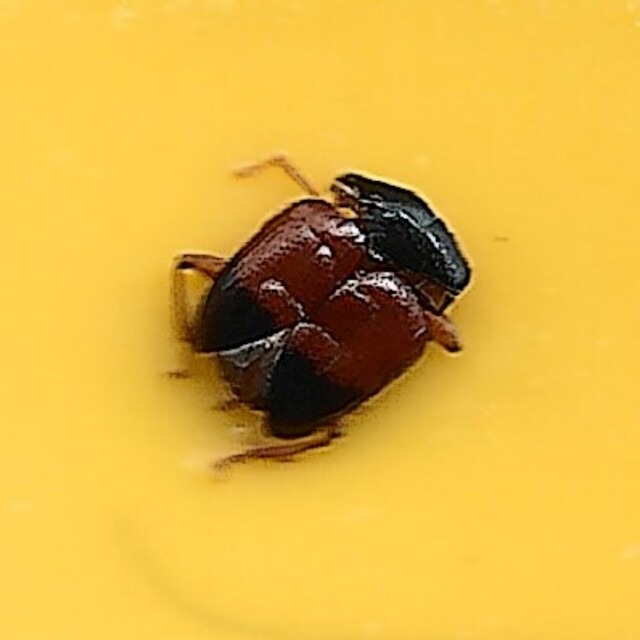Coleoptera: (161, 157, 479, 483)
